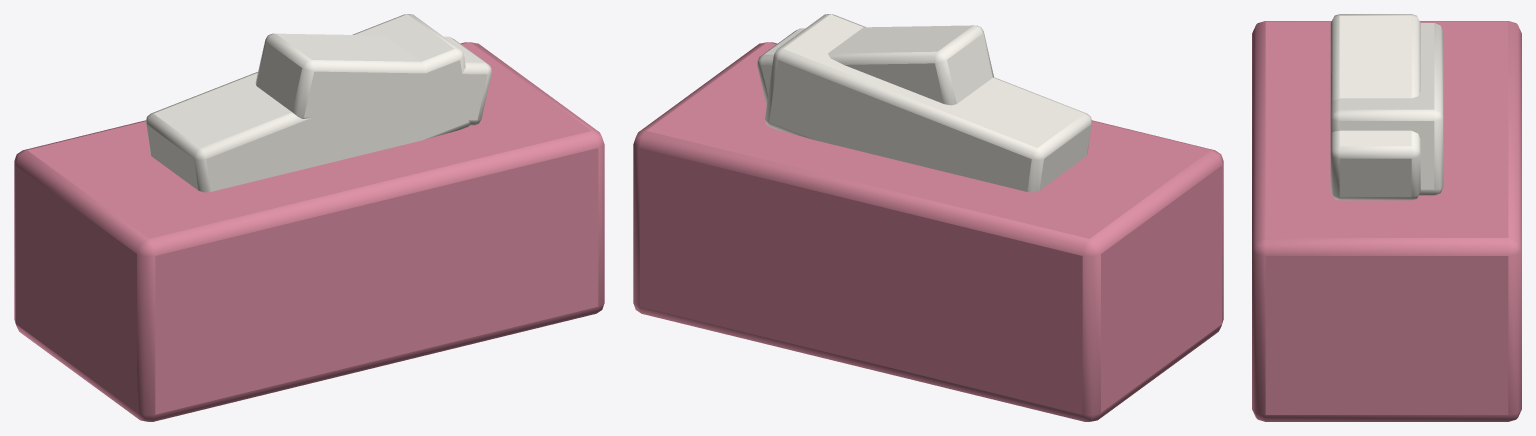
File: HopKhanGiay_Nhua.glb
3 renders of one model, left to right at view 1: azimuth 30°, elevation 25°; view 2: azimuth 150°, elevation 25°; view 3: azimuth 270°, elevation 25°, orthographic.
Parts seen in each view (by area): view 1: HopKhanGiay_Nhua; view 2: HopKhanGiay_Nhua; view 3: HopKhanGiay_Nhua.
Boxes of the visible parts, x1,y1,x2,y2 form: HopKhanGiay_Nhua: (14,14,604,421); HopKhanGiay_Nhua: (633,14,1223,421); HopKhanGiay_Nhua: (1252,14,1521,421).
Bounding box in the file's own units: 0.24 × 0.1407 × 0.12.
